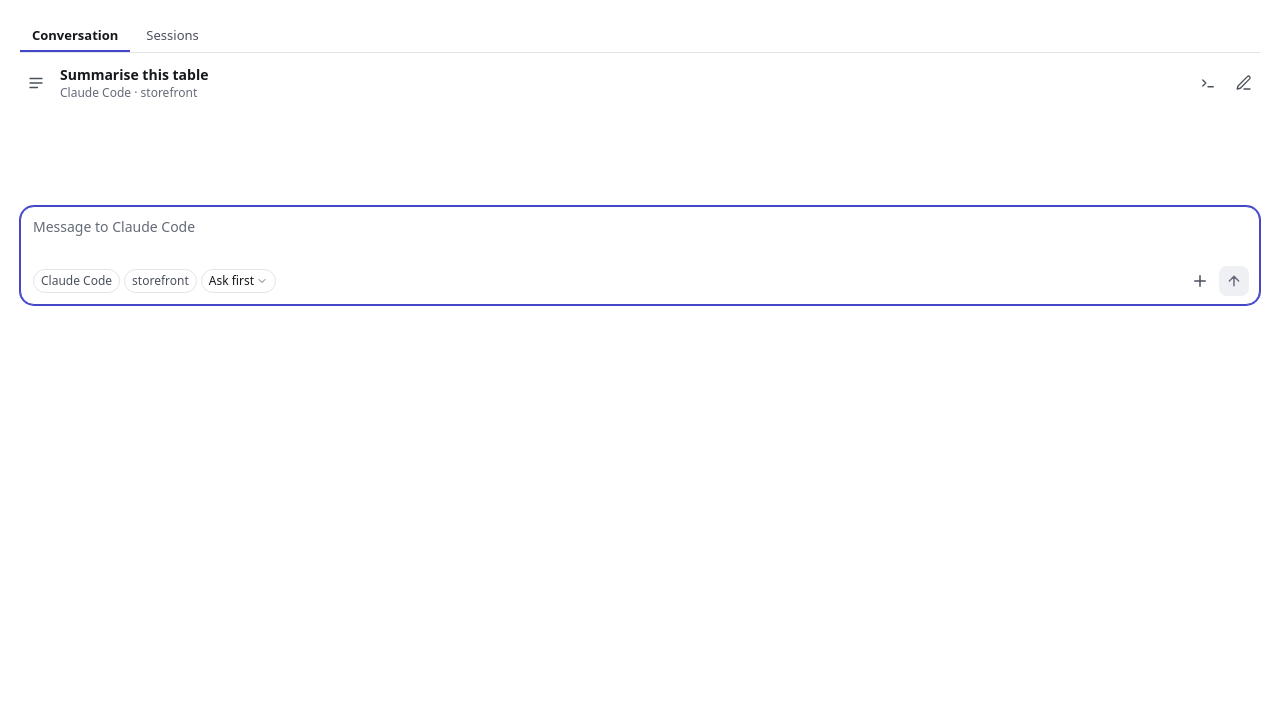
Scenario: T607 the Conversation tab › A1/G2 a project folder is its name › shows the name in an open conversation's header, its fixed chip and its drawer row
expect the text with class "agent-conversation-folder" reads "storefront": met, box [141, 85, 197, 101]
expect the 2nd text with class "agent-conversation-chip-text" reads "storefront": met, box [132, 272, 189, 289]
What coordinates should you click on to do the following:
click the button named "Show conversations"
I would click on:
 (36, 83)
Its box is [20, 67, 52, 99].
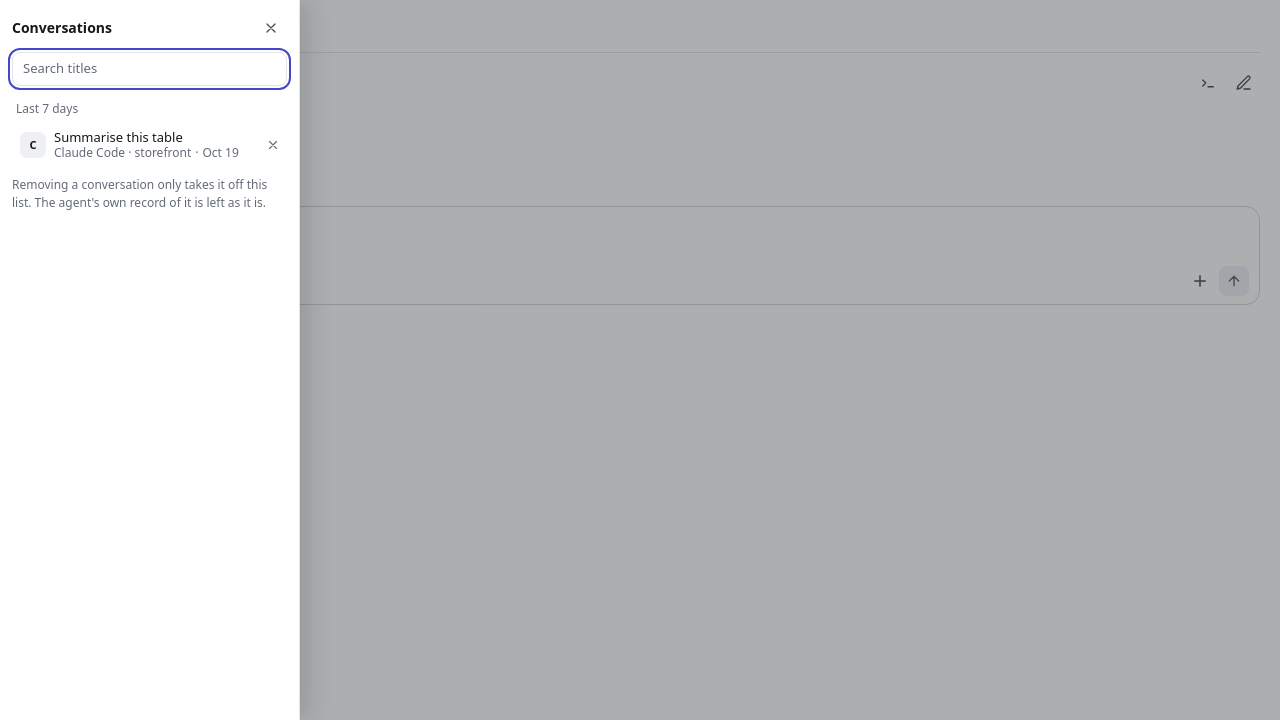
expect the text with class "agent-conversation-folder" reads "storefront": met, box [135, 145, 191, 161]
